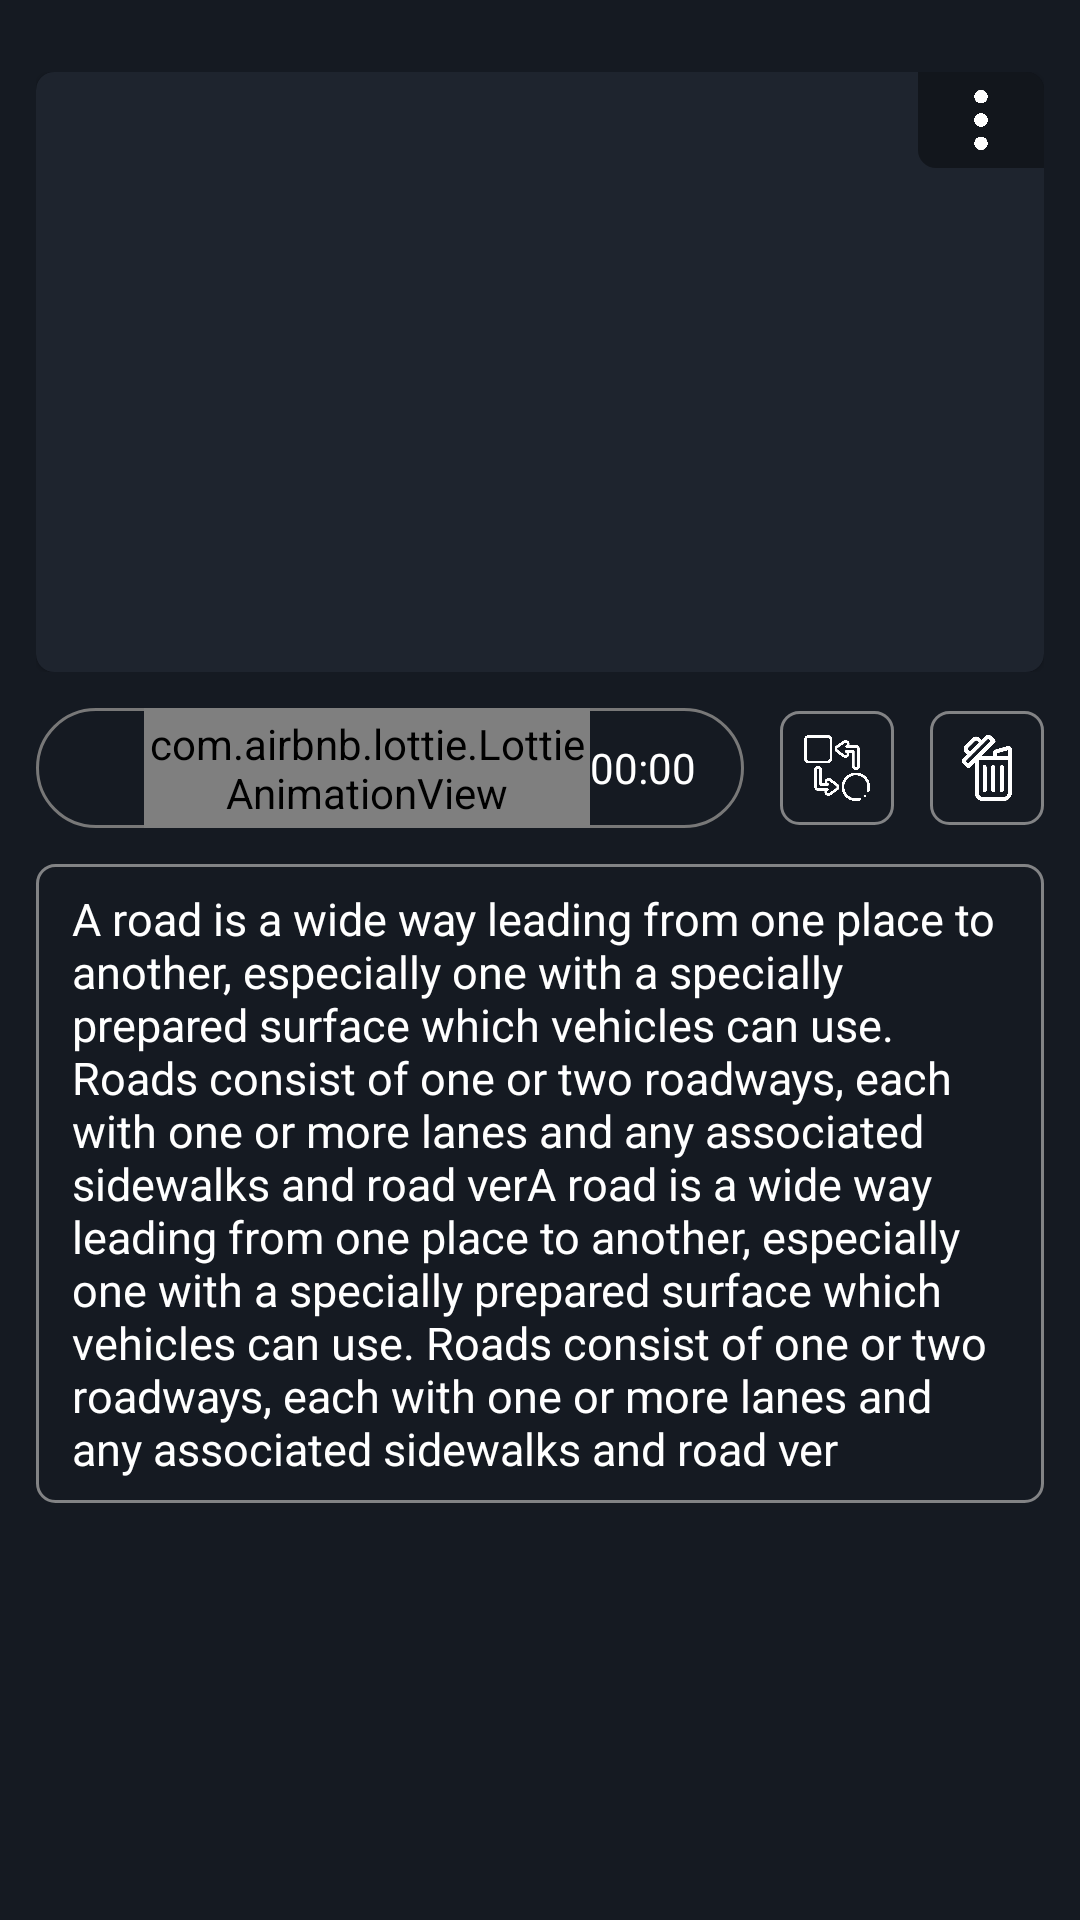

Named icons in this screenshot (1080x1920) and their centers, point (x, y):
delete: point (987, 768)
more: point (981, 120)
replace: point (837, 768)
